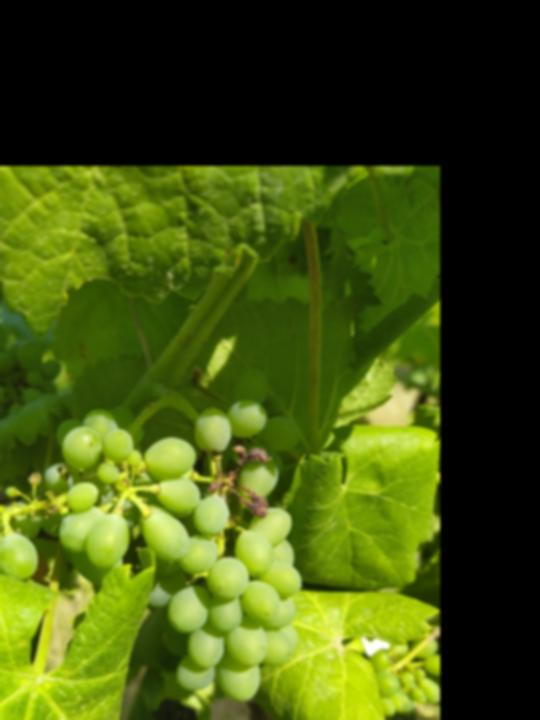grape: (0, 368, 310, 704), (367, 630, 438, 718)
